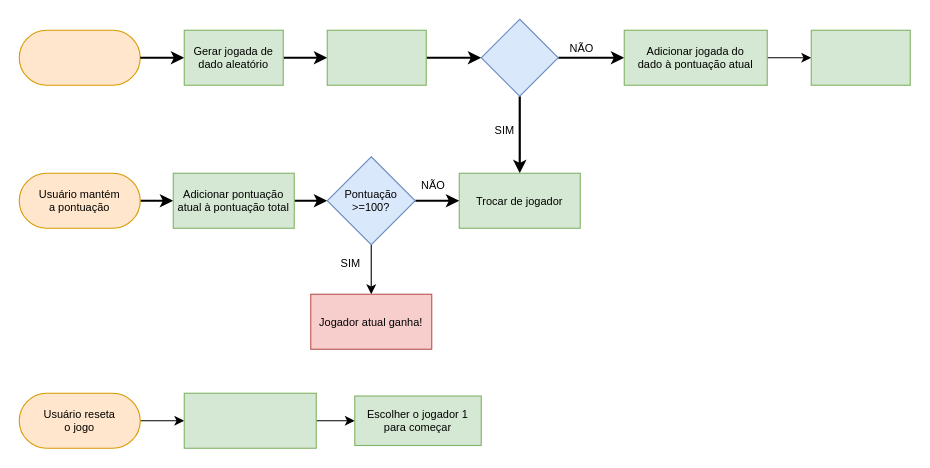
The diagram is 930 pixels wide and 468 high, and some of its shapes have lost their labels. Each missing label, with the box of its shape:
Mostrar jogada do dado: (326, 29, 426, 85)
Mostrar nova pontuação atual: (810, 29, 910, 85)
Todas as pontuações são resetadas para 0: (183, 392, 316, 448)
Usuário joga o dado: (18, 29, 140, 85)
É um 1?: (480, 18, 558, 96)
